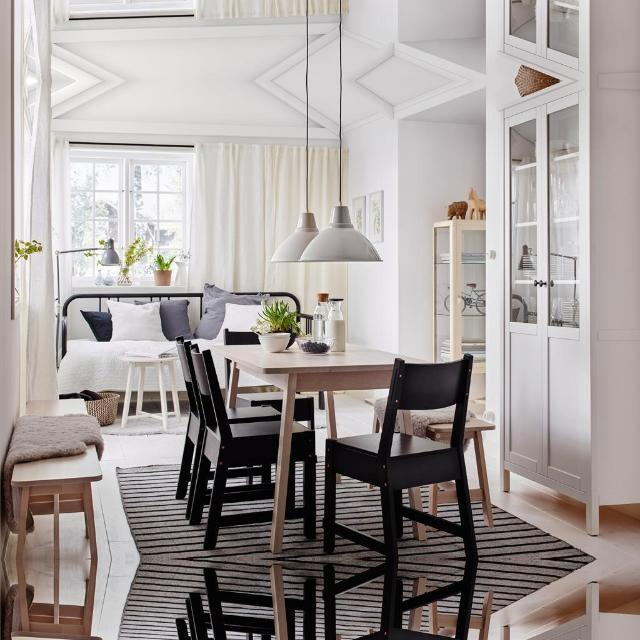obstacle: (176, 332, 479, 558), (496, 80, 640, 530), (176, 558, 479, 640), (10, 390, 100, 554), (496, 0, 639, 80), (496, 586, 639, 640), (9, 562, 100, 640), (114, 342, 180, 428)
